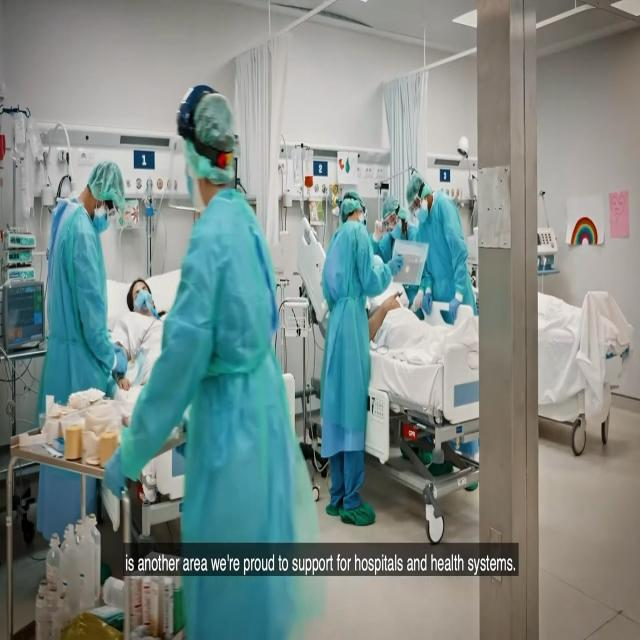Doctor: (40, 118, 140, 389), (317, 166, 387, 524), (406, 177, 466, 283)
Nurse: (151, 76, 303, 540), (380, 193, 408, 246)
Patient: (118, 254, 172, 343)
